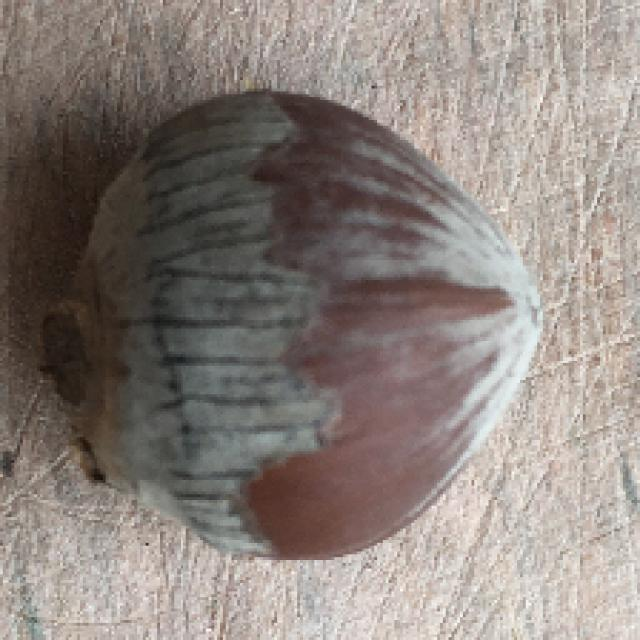damagedHazelnut: (55, 88, 544, 561)
